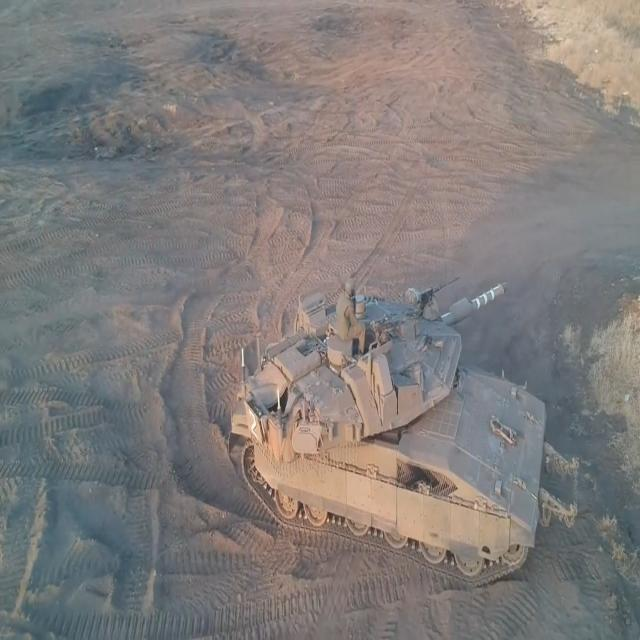tank: (238, 260, 586, 604)
